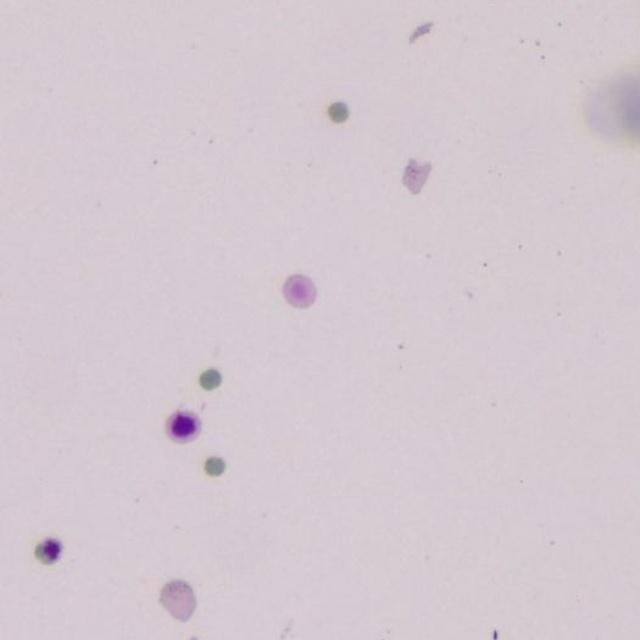intermediate: (160, 579, 195, 620), (283, 274, 316, 307), (167, 411, 199, 441), (35, 539, 61, 563)
non_viable: (199, 368, 221, 390), (328, 101, 349, 122), (204, 456, 224, 475)
